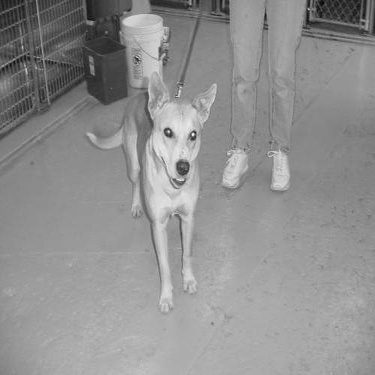dog: (80, 68, 226, 318)
